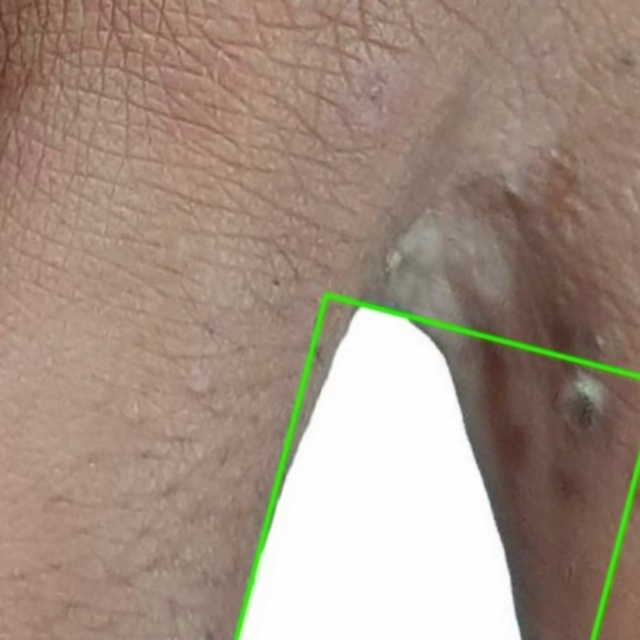Scabies: (236, 294, 639, 639)
